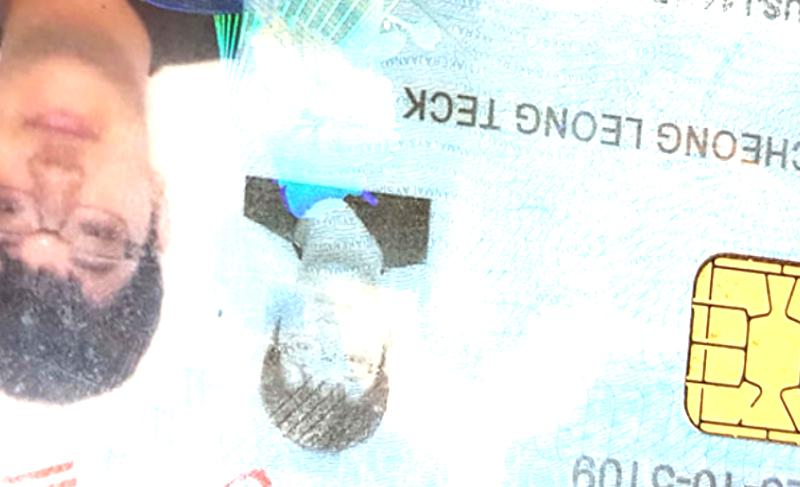hologramB: (251, 1, 388, 180)
